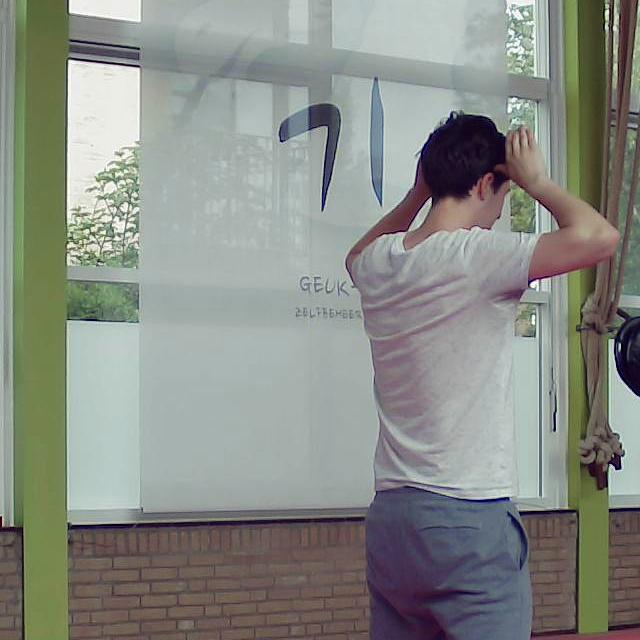paddle: (610, 313, 640, 414)
